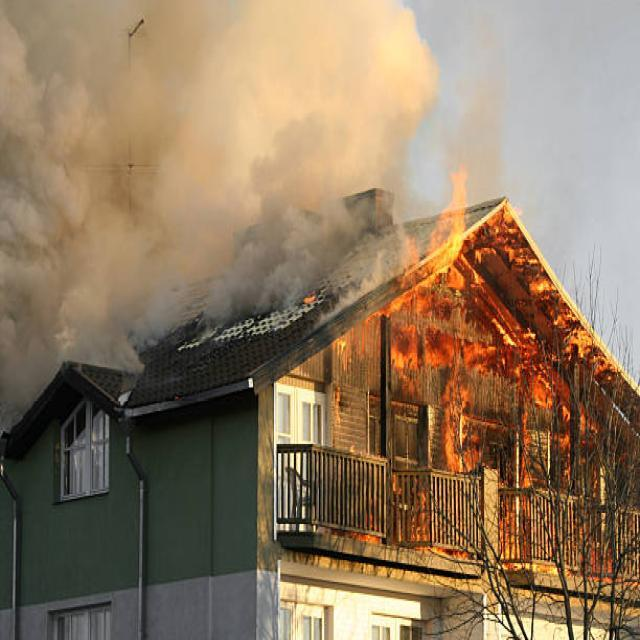Fire: (391, 174, 614, 458)
Smoke: (0, 0, 442, 425)
